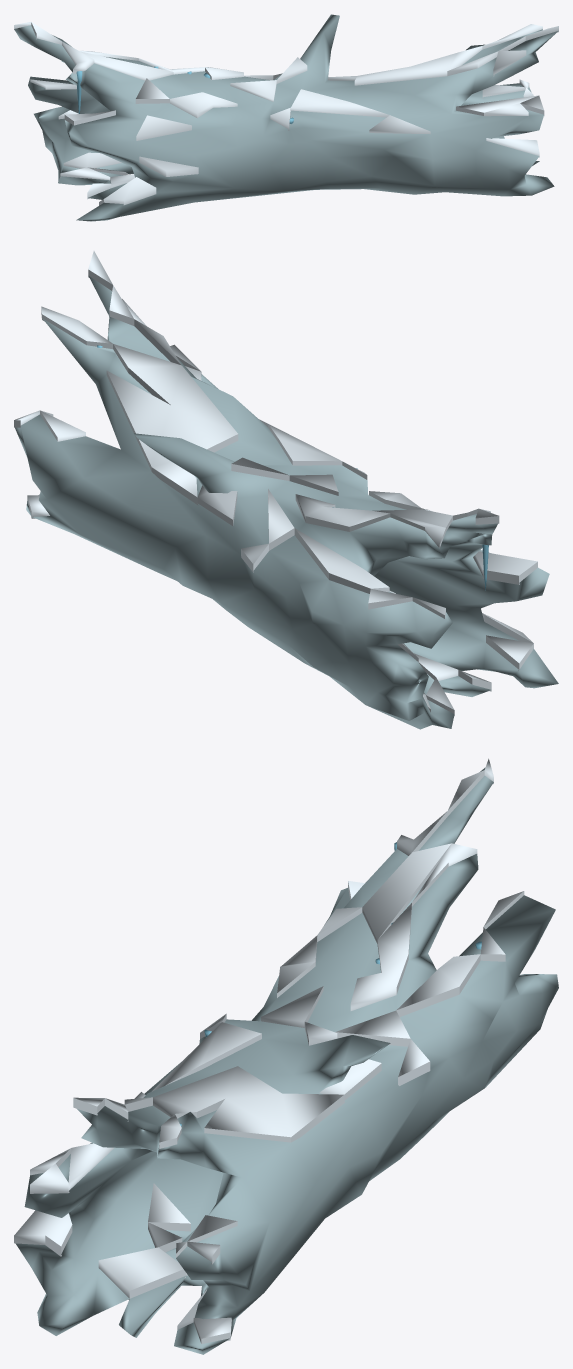
Rendered from FirstRoom_FallenLog.fbx.
The picture shows the model from 3 angles, top to bottom: view 1: azimuth 30°, elevation 25°; view 2: azimuth 150°, elevation 25°; view 3: azimuth 270°, elevation 25°; orthographic projection. The views are drawn at different scales.
Visible parts, largest first — view 1: FirstRoom_FallenLog_LOD0; view 2: FirstRoom_FallenLog_LOD0; view 3: FirstRoom_FallenLog_LOD0.
Boxes of the visible parts, left/top/right/bottom form: FirstRoom_FallenLog_LOD0: left=14, top=14, right=558, bottom=221; FirstRoom_FallenLog_LOD0: left=14, top=251, right=558, bottom=729; FirstRoom_FallenLog_LOD0: left=14, top=758, right=558, bottom=1354.
Size of what is drawn, in the model's own units: 6 by 2.23 by 4.1.
